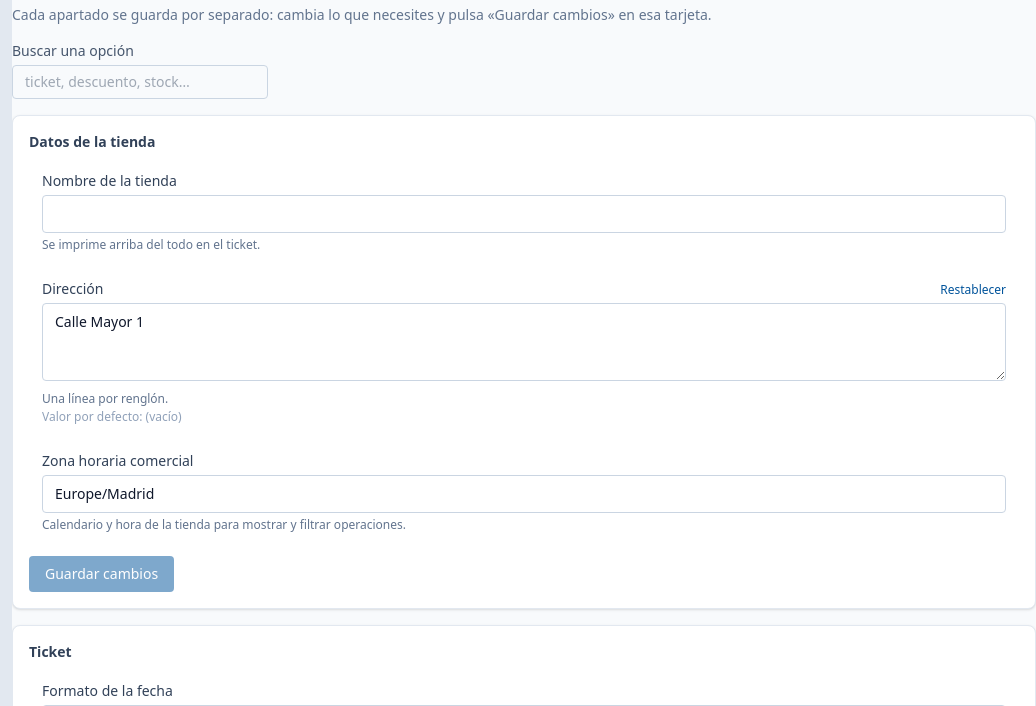
it: SettingsPage — opciones del registro › saves exactly the keys that changed in that card, and nothing else
Expected: the button with aria-label "Guardar cambios de Datos de la tienda" is disabled, x1=29 y1=556 x2=174 y2=592
Type "Frutería Pepa" into the field labelled "Nombre de la tienda" at (524, 214), box x1=42 y1=195 x2=1006 y2=233
(page scrolled)
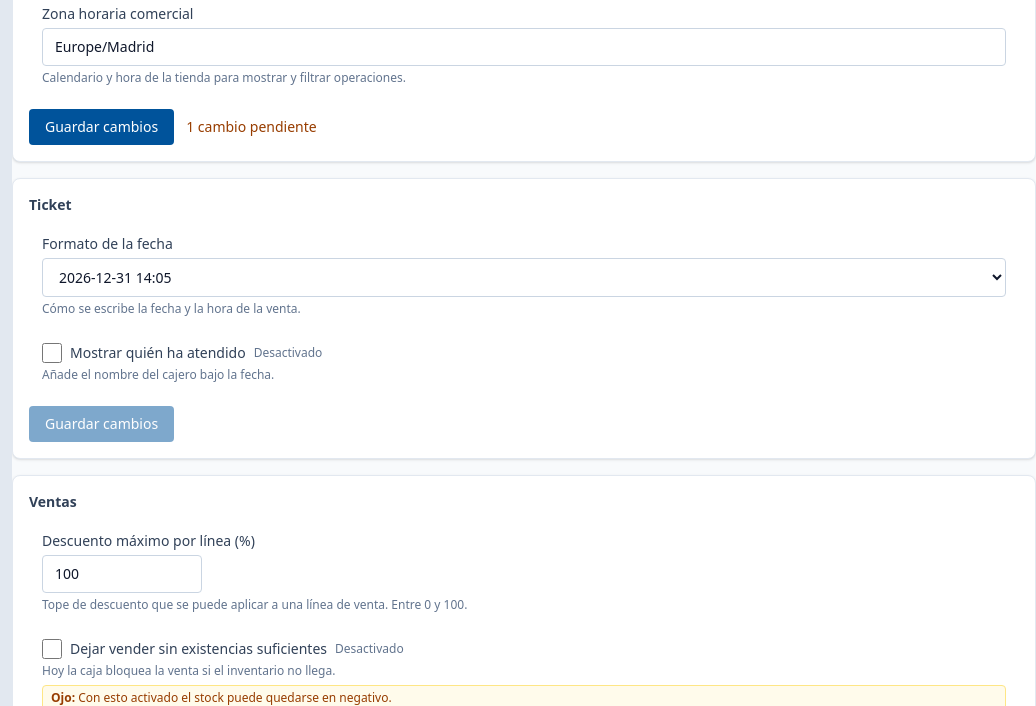
Result: the button with aria-label "Guardar cambios de Datos de la tienda" is enabled at x1=29 y1=109 x2=174 y2=145
Note: Otra tarjeta con cambios propios no debe colarse en este guardado.
Click the checkbox labelled "Mostrar quién ha atendido" at (52, 353), box x1=42 y1=343 x2=62 y2=363
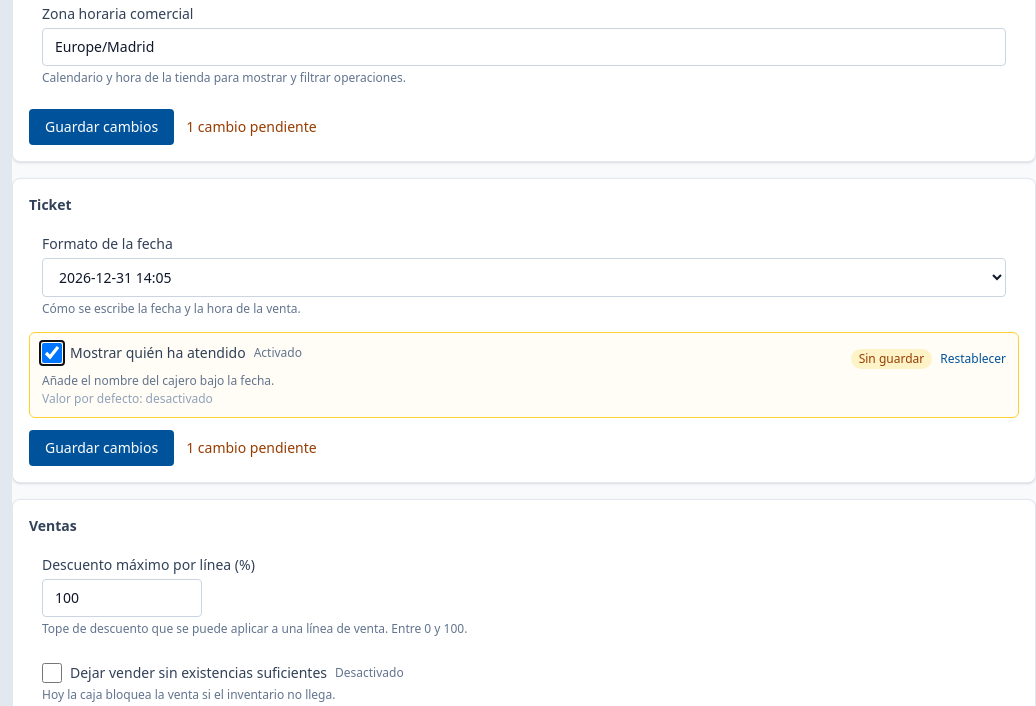
Click the button with aria-label "Guardar cambios de Datos de la tienda" at (102, 127), box x1=29 y1=109 x2=174 y2=145
(page scrolled)
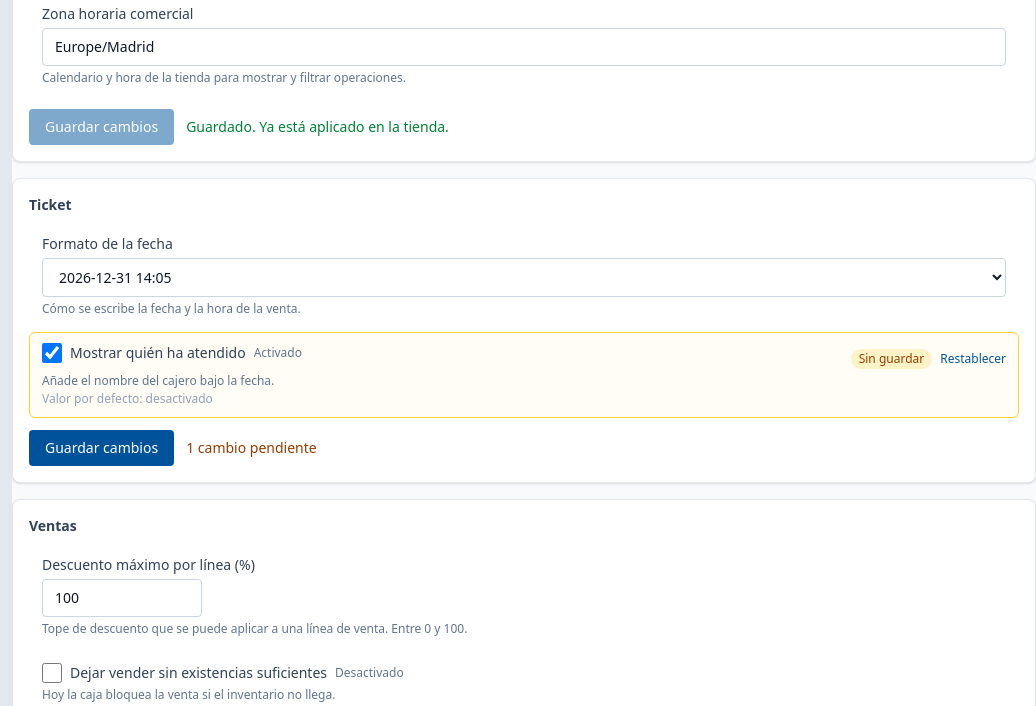
Result: the text "Sin guardar" is shown at x1=851 y1=349 x2=932 y2=369
Result: the text "Guardado. Ya está aplicado en la tienda." is shown at x1=186 y1=117 x2=449 y2=137
